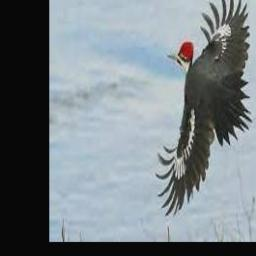Woodpecker: (155, 0, 252, 215)
